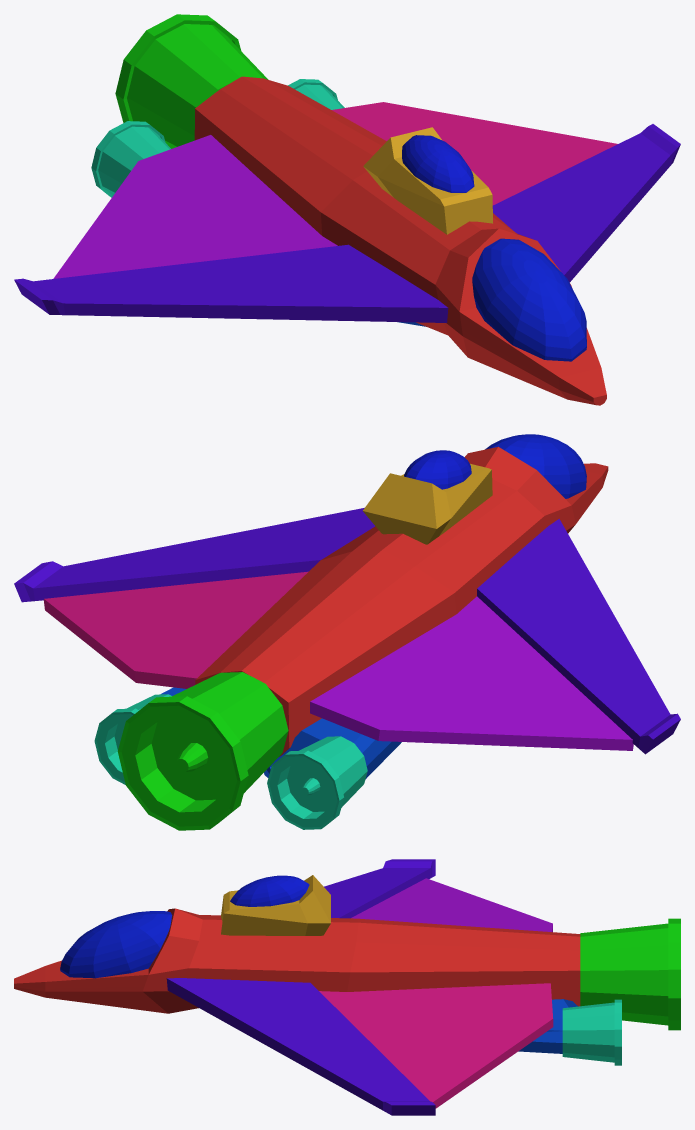
The model's file is spaceshipblend.obj.
3 renders of one model, top to bottom at view 1: azimuth 30°, elevation 25°; view 2: azimuth 150°, elevation 25°; view 3: azimuth 270°, elevation 25°, orthographic. The views are drawn at different scales.
Visible parts, largest first — view 1: Plane, Cylinder, Cylinder.005, Cylinder.003, Cylinder.002, Sphere, Cylinder.001, Cylinder.006, Sphere.001, Cylinder.004; view 2: Cylinder, Plane, Cylinder.005, Cylinder.003, Cylinder.002, Cylinder.006, Cylinder.001, Sphere, Cylinder.007, Sphere.001, Cylinder.004; view 3: Cylinder, Plane, Cylinder.002, Cylinder.003, Cylinder.005, Sphere, Cylinder.001, Cylinder.004, Sphere.001, Cylinder.007.
Boxes of the visible parts, x1,y1,x2,y2 form: Plane: (14,124,680,322); Cylinder: (194,76,606,405); Cylinder.005: (53,135,337,278); Cylinder.003: (115,14,268,148); Cylinder.002: (332,102,617,205); Sphere: (472,238,586,361); Cylinder.001: (363,127,492,234); Cylinder.006: (91,121,170,197); Sphere.001: (402,135,474,192); Cylinder.004: (288,79,344,109); Cylinder: (195,446,608,756); Plane: (14,507,680,754); Cylinder.005: (310,596,633,750); Cylinder.003: (117,672,288,830); Cylinder.002: (43,571,308,688); Cylinder.006: (267,736,367,829); Cylinder.001: (363,463,492,544); Sphere: (485,434,586,498); Cylinder.007: (161,687,401,779); Sphere.001: (404,450,471,489); Cylinder.004: (94,694,171,784); Cylinder: (14,908,580,1013); Plane: (166,859,435,1115); Cylinder.002: (319,983,553,1108); Cylinder.003: (580,918,680,1030); Cylinder.005: (351,878,552,932); Sphere: (60,911,172,978); Cylinder.001: (221,875,330,935); Cylinder.004: (562,999,621,1065); Sphere.001: (230,875,309,906); Cylinder.007: (518,999,577,1053).
Bounding box in the file's own units: 10.9 × 3.22 × 12.49.
